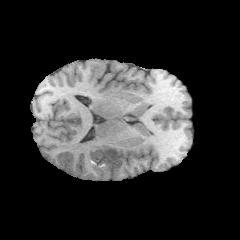glioma: (60, 138, 132, 175)
